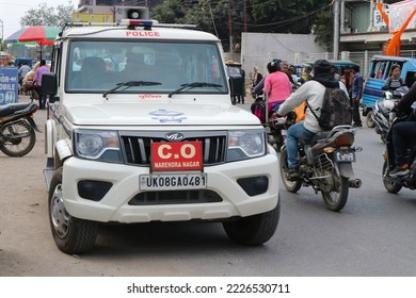priority: (46, 3, 280, 256)
